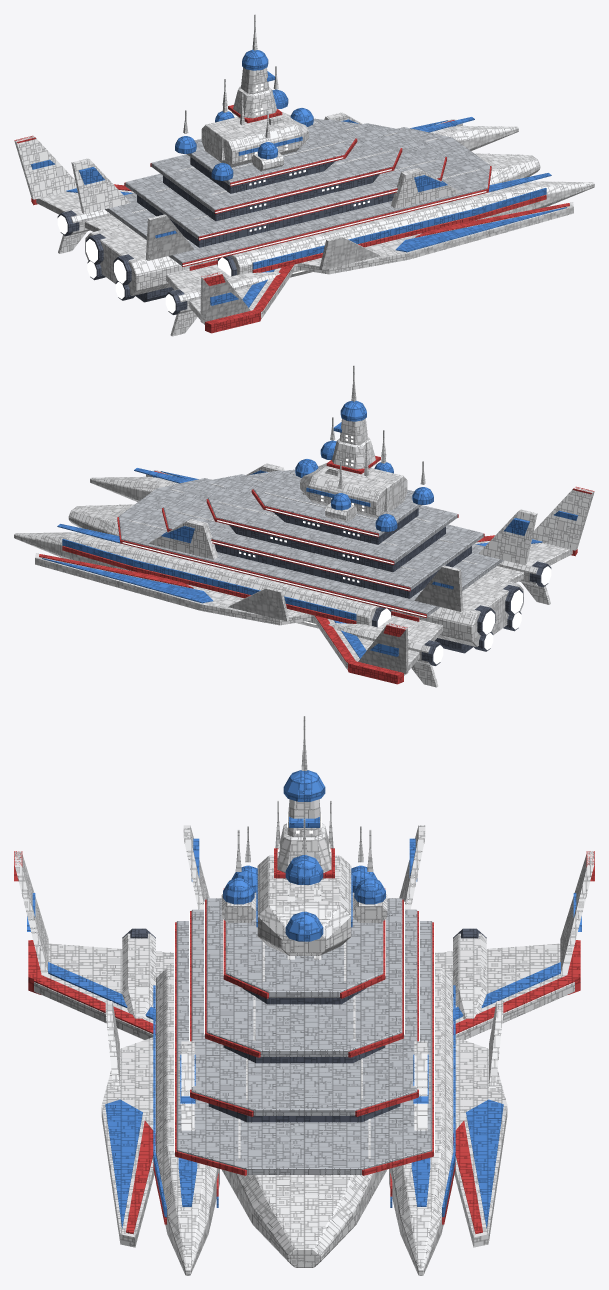
The model's file is air_lod0.glb.
3 renders of one model, top to bottom at view 1: azimuth 30°, elevation 25°; view 2: azimuth 150°, elevation 25°; view 3: azimuth 270°, elevation 25°, orthographic. The views are drawn at different scales.
Parts seen in each view (by area): view 1: air_lod0_body, air_lod0_glow; view 2: air_lod0_body, air_lod0_glow; view 3: air_lod0_body, air_lod0_glow.
Part boxes in pixels (<box>): air_lod0_body: <box>14,14,594,336</box>; air_lod0_glow: <box>57,84,486,313</box>; air_lod0_body: <box>14,365,594,687</box>; air_lod0_glow: <box>122,435,551,664</box>; air_lod0_body: <box>14,716,594,1275</box>; air_lod0_glow: <box>130,814,478,1152</box>.
Size of the model in its own units: 21.24 by 11.06 by 15.46.
2 materials, 1 textured.
